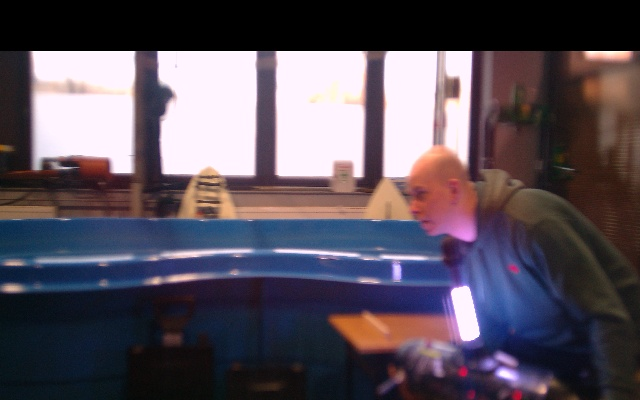white: (451, 285, 480, 342)
